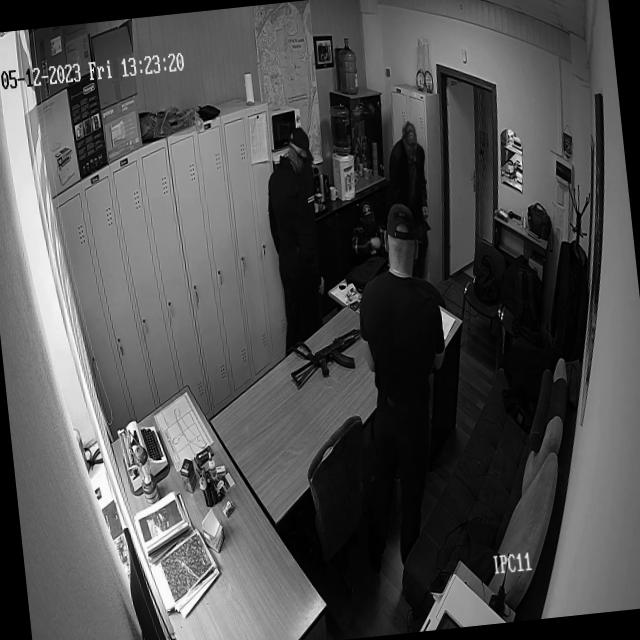gun: (284, 320, 378, 390)
person: (256, 114, 337, 324), (386, 120, 426, 182)
person with a gun: (342, 190, 468, 548)
